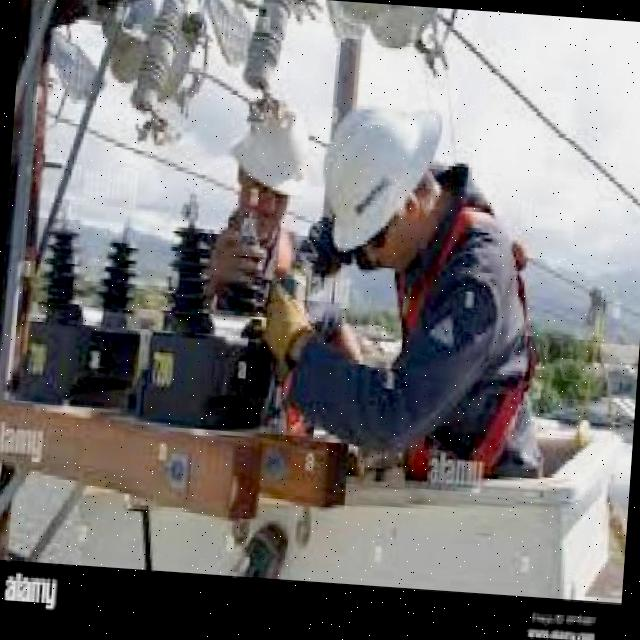vest: (376, 188, 571, 489)
